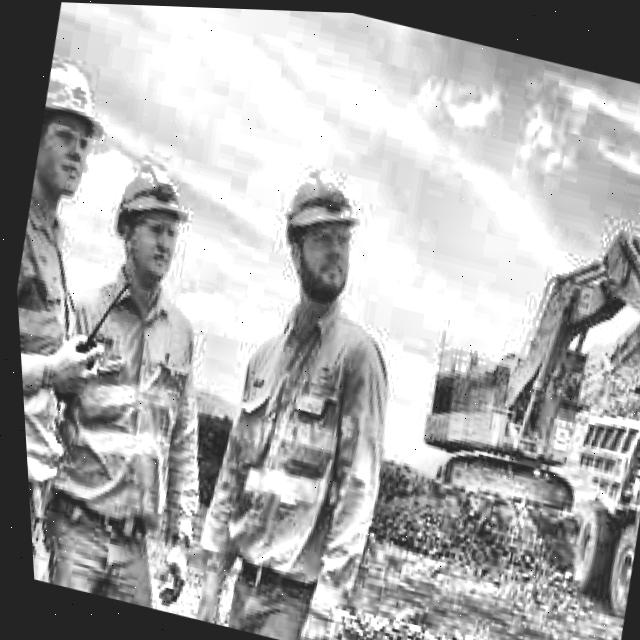dump_truck: (527, 385, 640, 627)
excavator: (376, 149, 640, 546)
